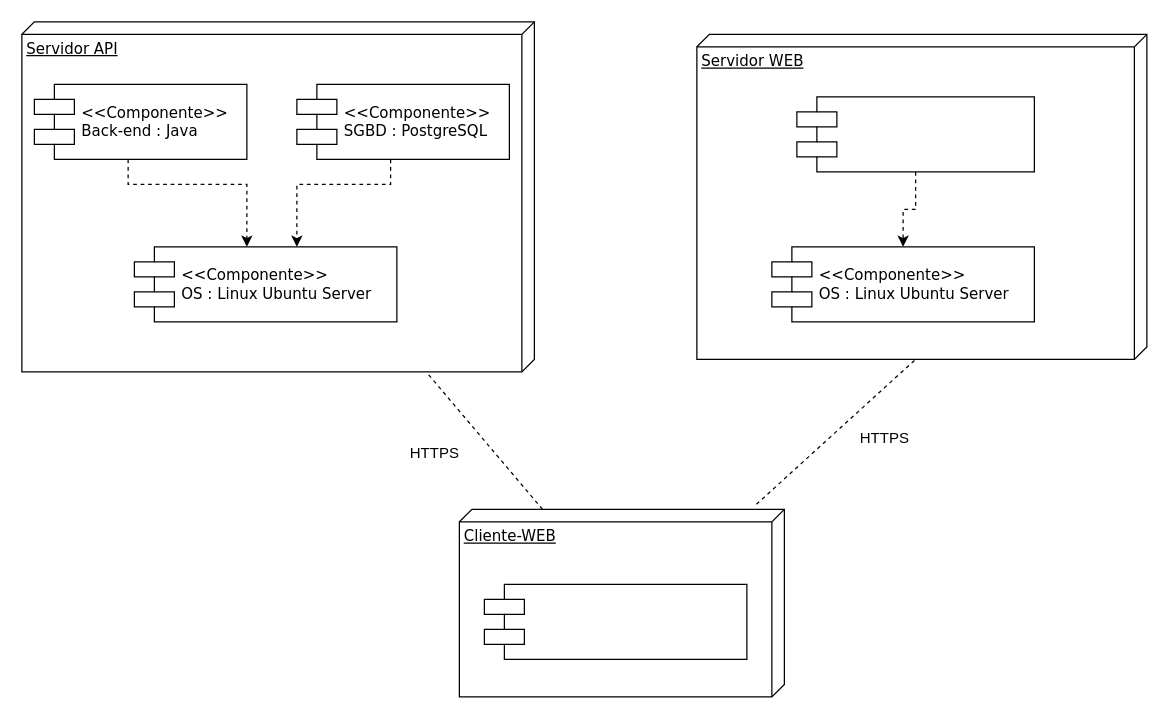
Image size: 1169x719. Some labels were removed from this diagram. The centre of each missing label's shape, as x and y in pixels:
<<Componente>> Chrome: Navegador Web: pixel 615 621
<<Componentes>> Front-end : HTML, CSS: pixel 915 134
